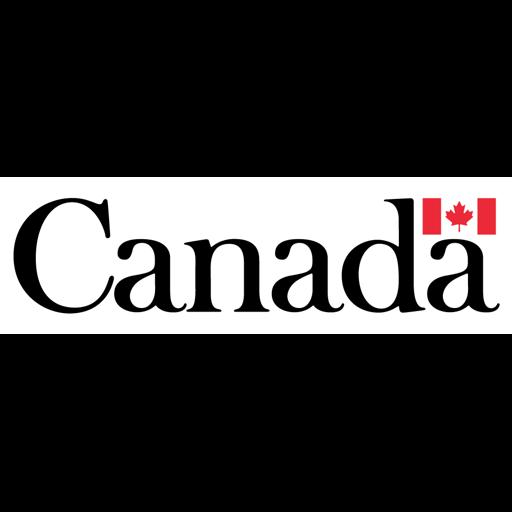Government of Canada: (0, 177, 512, 334)
